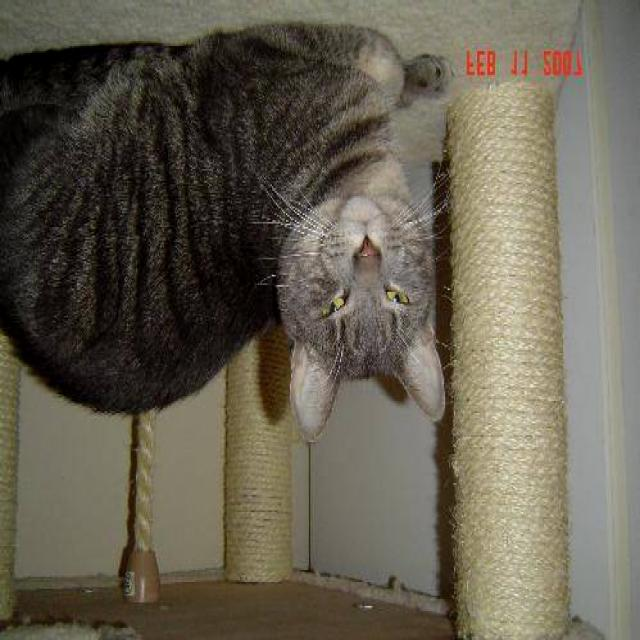Kucing: (11, 30, 459, 461)
